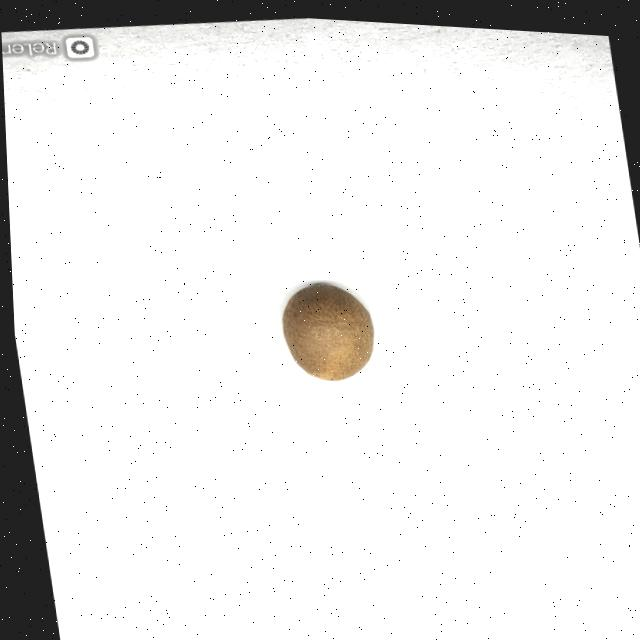Good bean: (273, 276, 379, 381)
